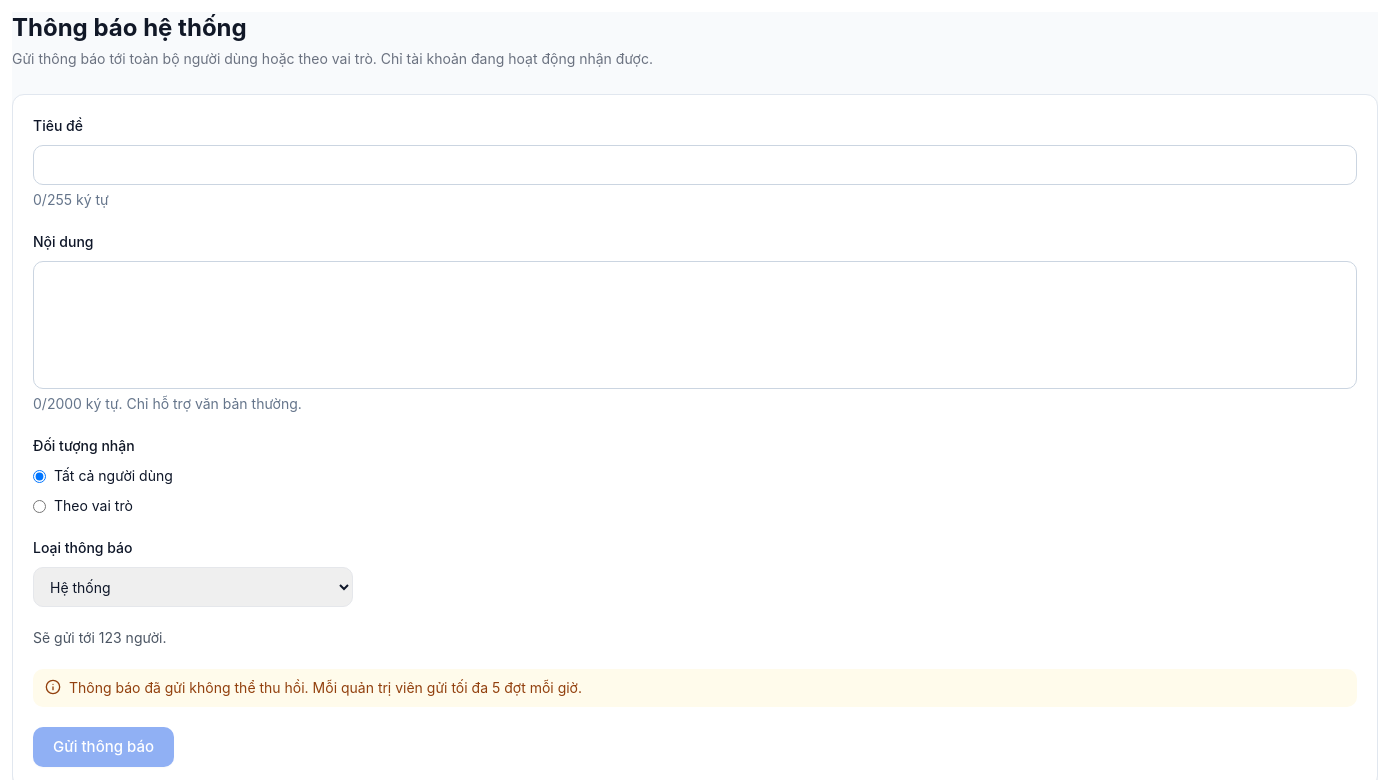
AdminBroadcastNotificationsPage › đếm người nhận ngay khi mở trang (audience=all) và chỉ cho gửi khi đủ tiêu đề + nội dung
Expected: the text "Sẽ gửi tới 123 người." is shown, [33,629,166,646]
Expected: the button "Gửi thông báo" is disabled, [33,727,174,767]
Type "  Bảo trì hệ thống  " into the field labelled "Tiêu đề". click: (695,165)
box: [33,145,1357,185]
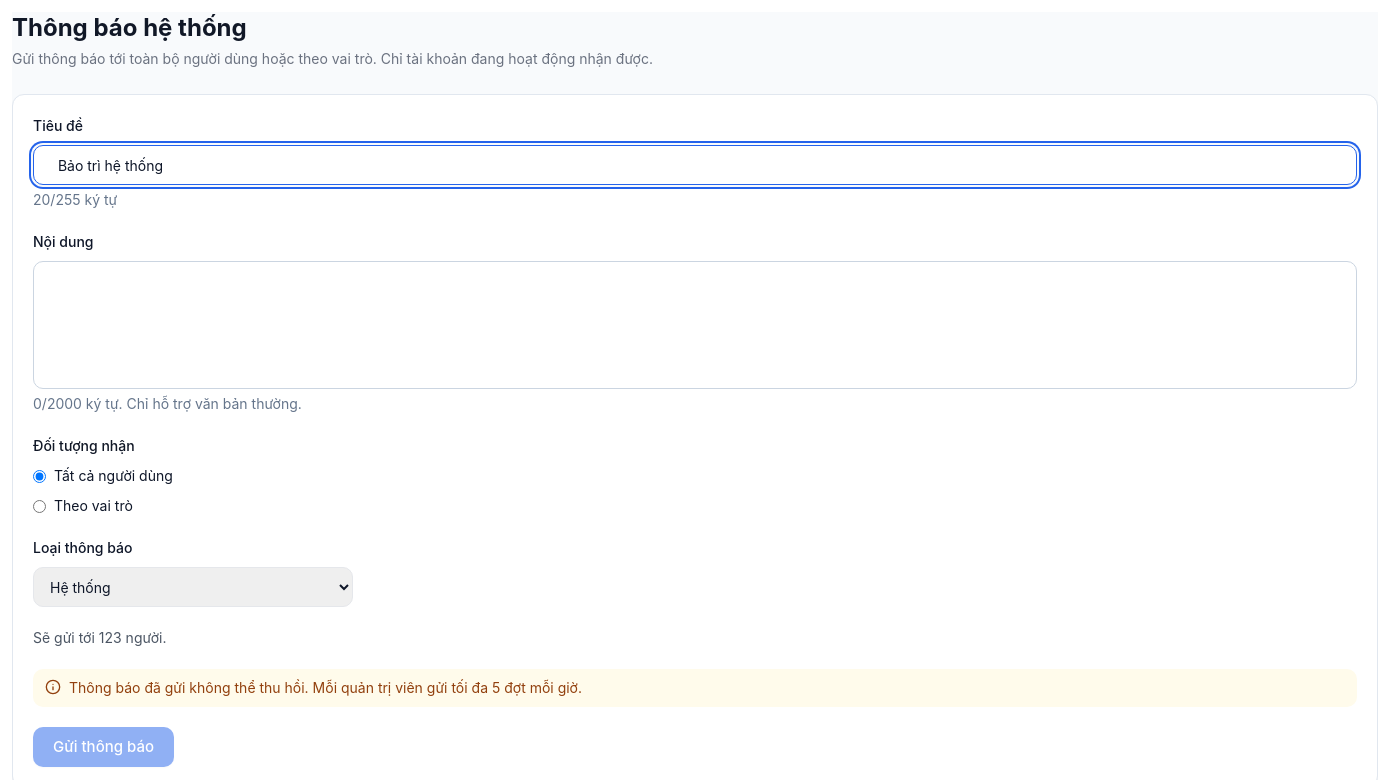
Type "Hệ thống bảo trì lúc 22h" into the text box labelled "Nội dung". click: (695,325)
box: [33,261,1357,389]
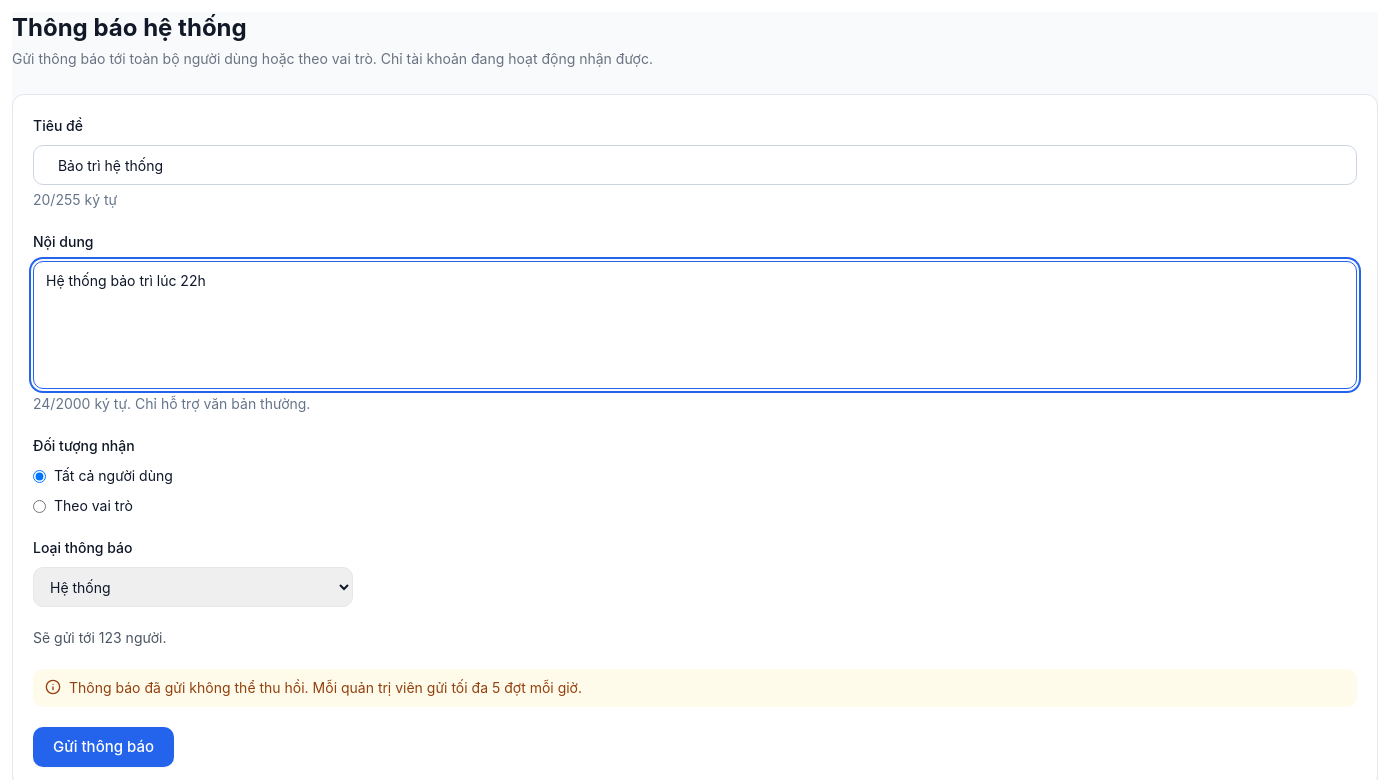
Expected: the button "Gửi thông báo" is enabled, [33,727,174,767]
